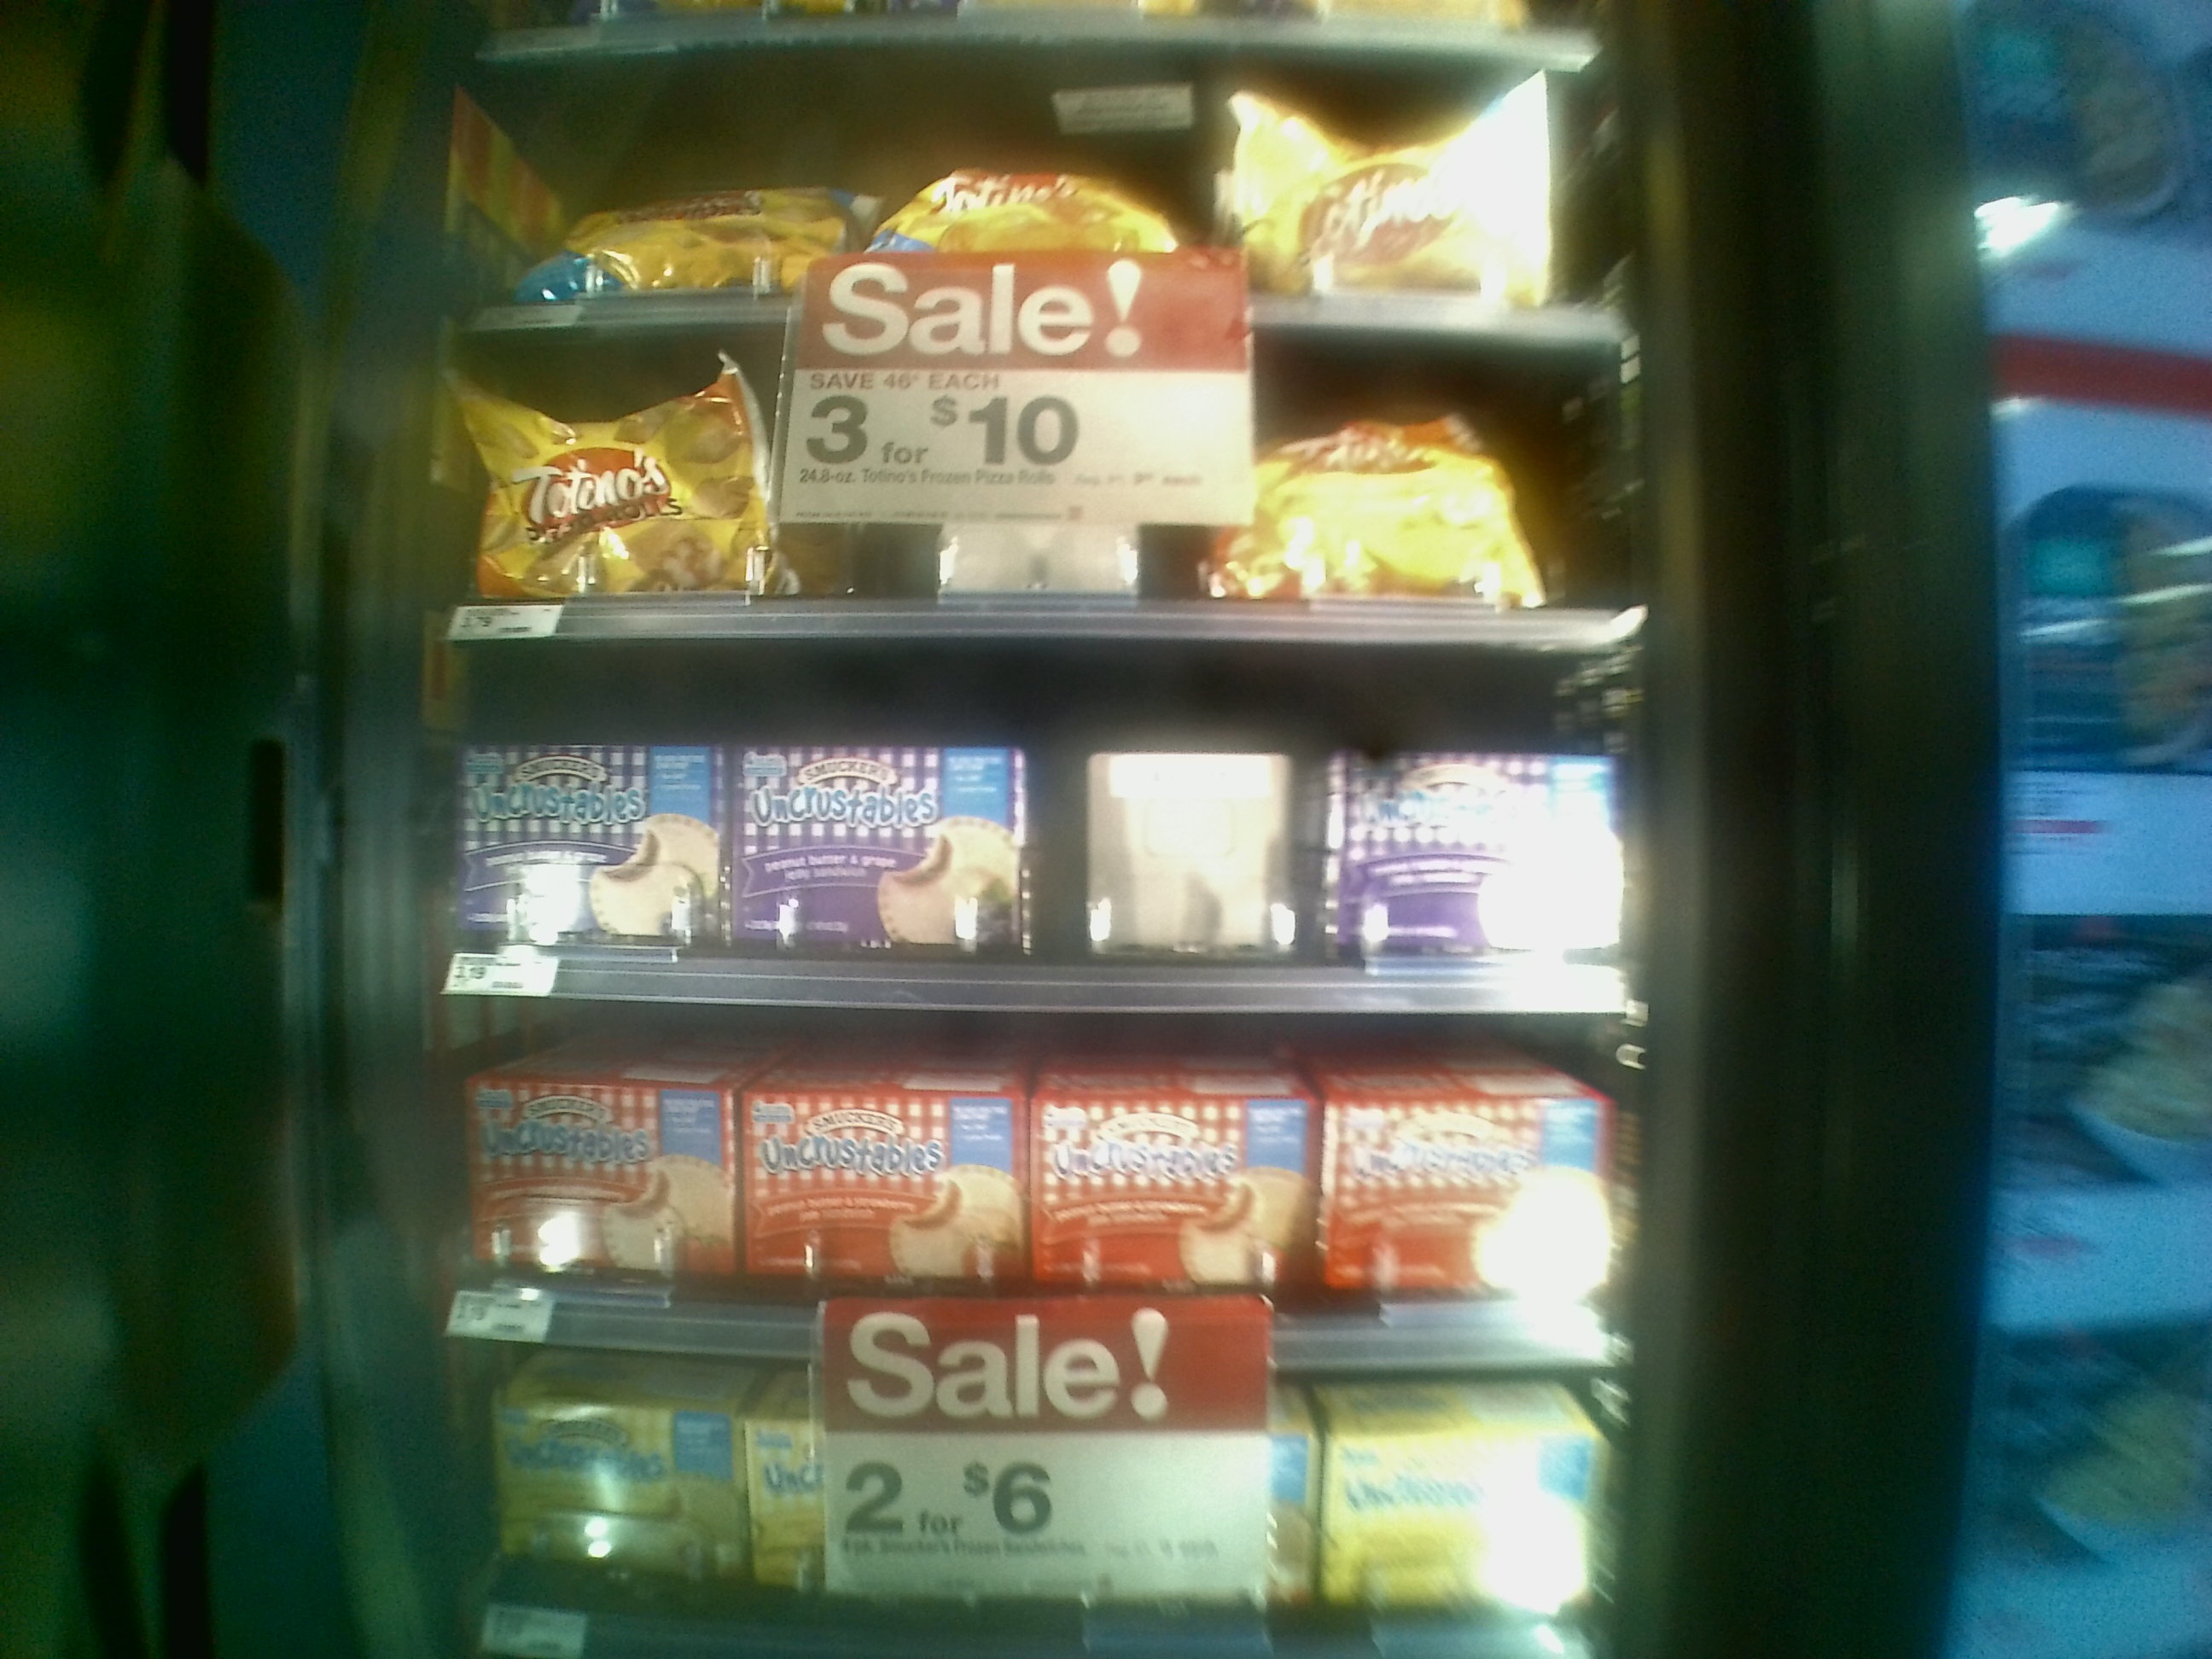shelf: (397, 613, 1616, 1009), (387, 978, 1634, 1361), (409, 331, 1625, 636)
